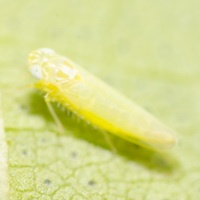insect: (28, 48, 175, 150)
